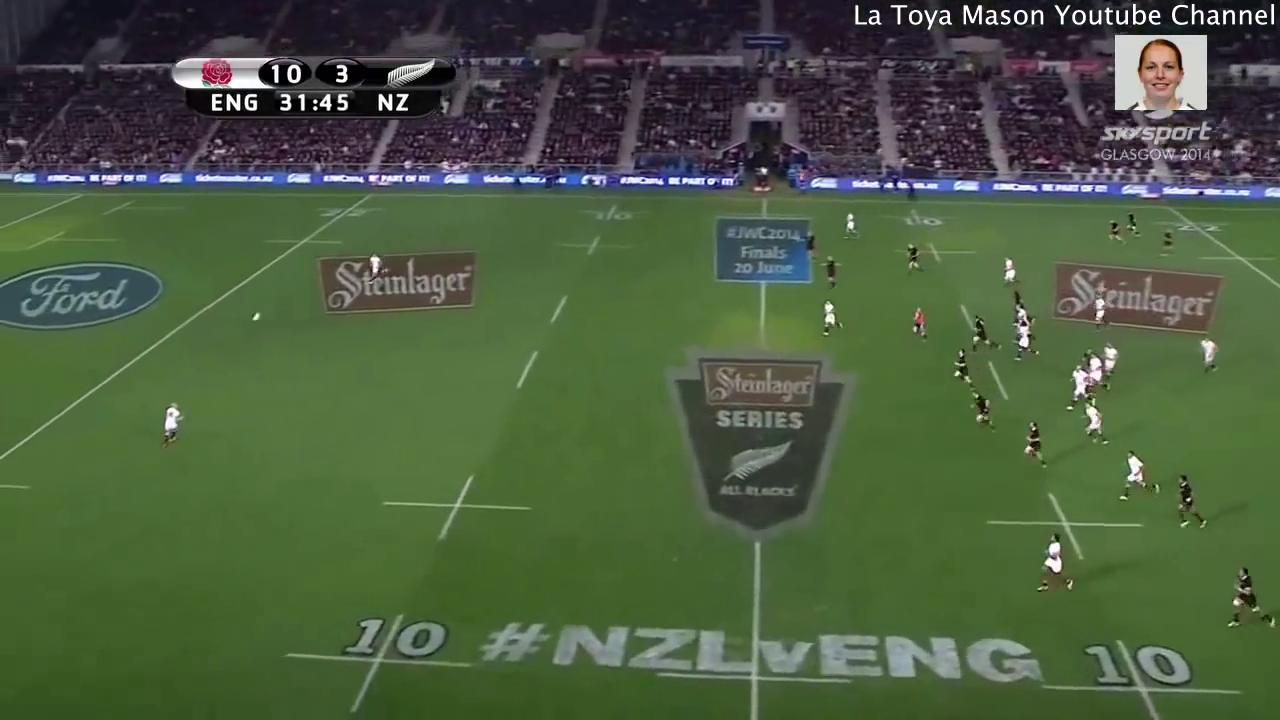10_metre: (273, 606, 475, 715), (1038, 632, 1251, 720), (981, 489, 1154, 566), (374, 468, 537, 548), (551, 232, 641, 263), (890, 238, 985, 267), (879, 203, 963, 230), (563, 201, 659, 224)
ball: (247, 305, 269, 325)
player: (1224, 564, 1280, 635), (149, 395, 197, 463), (1117, 445, 1167, 509), (1033, 528, 1080, 595), (1171, 471, 1210, 535), (963, 308, 1004, 360), (1007, 315, 1043, 367), (817, 292, 852, 343), (1061, 361, 1095, 413), (1078, 396, 1114, 445), (1019, 417, 1053, 468), (967, 384, 999, 437), (903, 302, 935, 350), (1085, 290, 1116, 336), (948, 346, 978, 393), (899, 237, 930, 282), (1193, 330, 1221, 379), (997, 251, 1030, 291), (816, 252, 846, 293), (1115, 208, 1147, 244), (1097, 341, 1123, 385), (834, 208, 864, 245), (1154, 223, 1181, 264), (1083, 349, 1106, 397), (364, 247, 387, 287), (798, 226, 820, 265), (1101, 214, 1126, 245), (1013, 299, 1034, 331), (1009, 290, 1029, 311)
